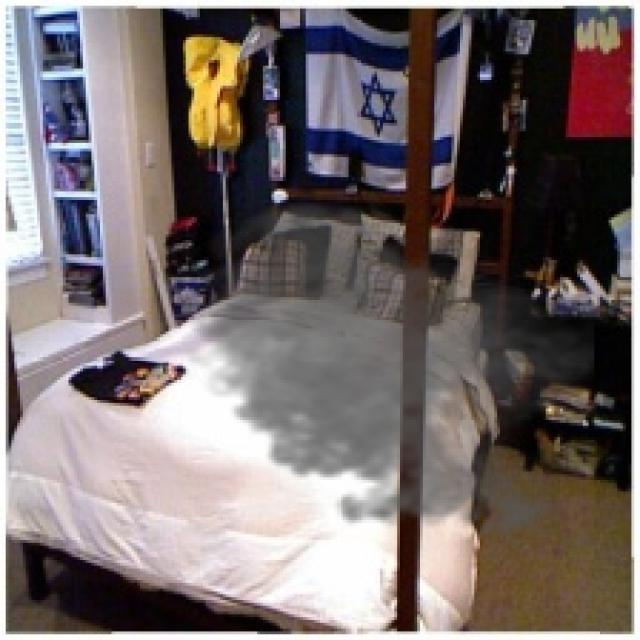smoke: (172, 194, 594, 549)
